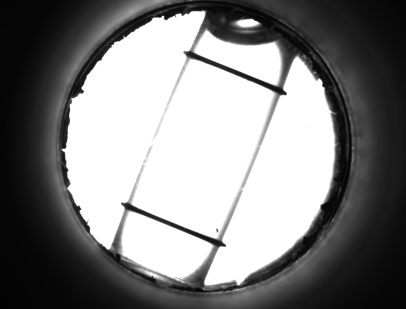line: (198, 52, 270, 92), (136, 204, 206, 245)
